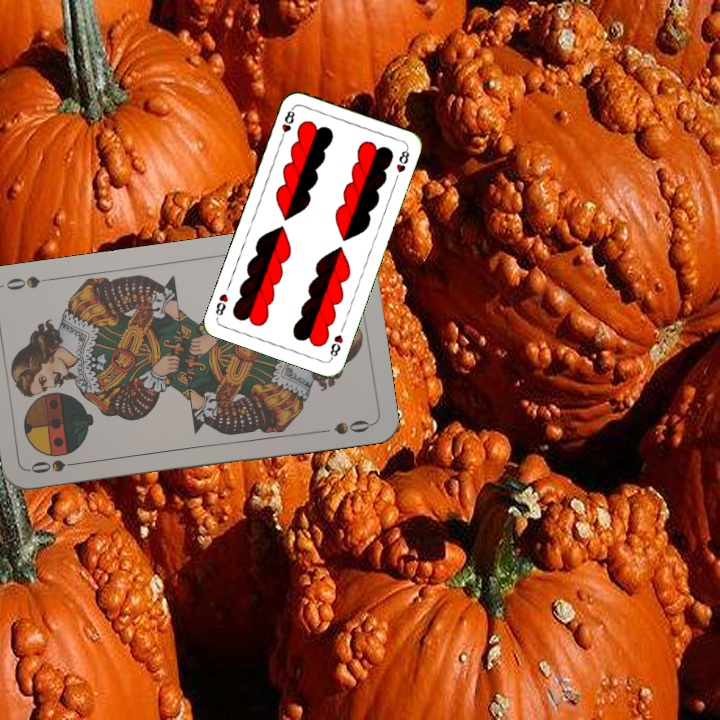H8: (277, 104, 297, 143), (326, 330, 346, 362)
SO: (26, 455, 86, 476)
